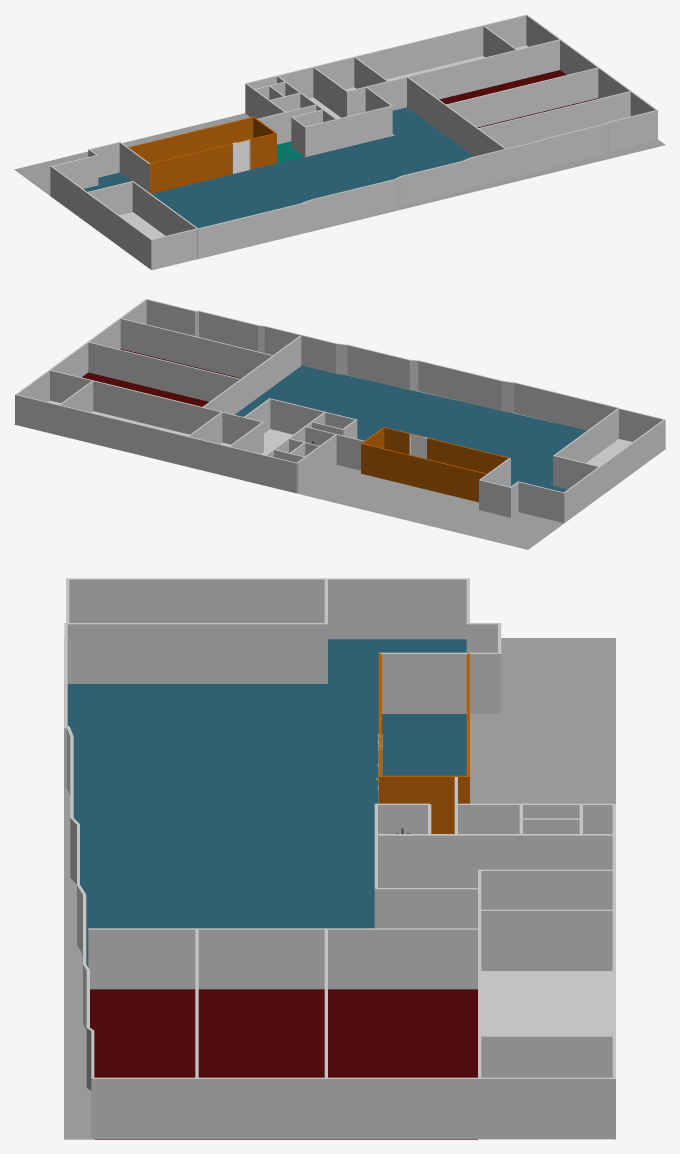
The model's file is firstTry.obj.
The picture shows the model from 3 angles, top to bottom: view 1: azimuth 30°, elevation 25°; view 2: azimuth 150°, elevation 25°; view 3: azimuth 270°, elevation 25°; orthographic projection. The views are drawn at different scales.
Visible parts, largest first — view 1: room_58_339, wall_42_251, wall_40_239, wall_43_257, wall_49_293, wall_3_16, ground_1, wall_28_167, wall_30_179, wall_39_233, wall_1_5, wall_34_203 (+30 smaller); view 2: room_58_339, ground_1, wall_43_256, wall_42_250, wall_40_238, wall_49_292, wall_1_4, wall_28_166, wall_30_178, wall_39_233, wall_3_17, wall_8_46 (+30 smaller); view 3: room_58_339, ground_1, wall_39_232, wall_41_244, wall_6_34, room_74_353, room_75_354, wall_8_47, room_76_355, room_73_352, wall_9_53, wall_46_274 (+18 smaller).
Boxes of the visible parts, <box> form: room_58_339: <box>152,126,473,228</box>; wall_42_251: <box>447,68,598,127</box>; wall_40_239: <box>409,40,559,99</box>; wall_43_257: <box>479,92,630,148</box>; wall_49_293: <box>356,26,483,79</box>; wall_3_16: <box>149,133,276,193</box>; ground_1: <box>14,113,665,270</box>; wall_28_167: <box>197,203,305,259</box>; wall_30_179: <box>312,179,395,229</box>; wall_39_233: <box>407,77,504,156</box>; wall_1_5: <box>129,117,253,163</box>; wall_34_203: <box>471,140,543,187</box>; room_58_339: <box>235,365,586,488</box>; ground_1: <box>14,375,563,549</box>; wall_43_256: <box>120,319,271,378</box>; wall_42_250: <box>88,342,239,401</box>; wall_40_238: <box>50,370,202,434</box>; wall_49_292: <box>59,406,188,466</box>; wall_1_4: <box>361,444,486,502</box>; wall_28_166: <box>513,383,617,430</box>; wall_30_178: <box>418,361,501,410</box>; wall_39_233: <box>204,336,301,414</box>; wall_3_17: <box>384,428,508,473</box>; wall_8_46: <box>600,419,665,496</box>; room_58_339: <box>64,683,376,966</box>; ground_1: <box>64,638,615,1139</box>; wall_39_232: <box>88,929,477,989</box>; wall_41_244: <box>93,1079,481,1138</box>; wall_6_34: <box>67,624,327,683</box>; room_74_353: <box>328,989,477,1139</box>; room_75_354: <box>198,989,327,1139</box>; wall_8_47: <box>69,579,324,622</box>; room_76_355: <box>90,989,197,1139</box>; room_73_352: <box>481,971,612,1035</box>; wall_9_53: <box>328,579,466,639</box>; wall_46_274: <box>479,1079,615,1138</box>.
Bounding box in the file's own units: 2696 × 150 × 1253.
